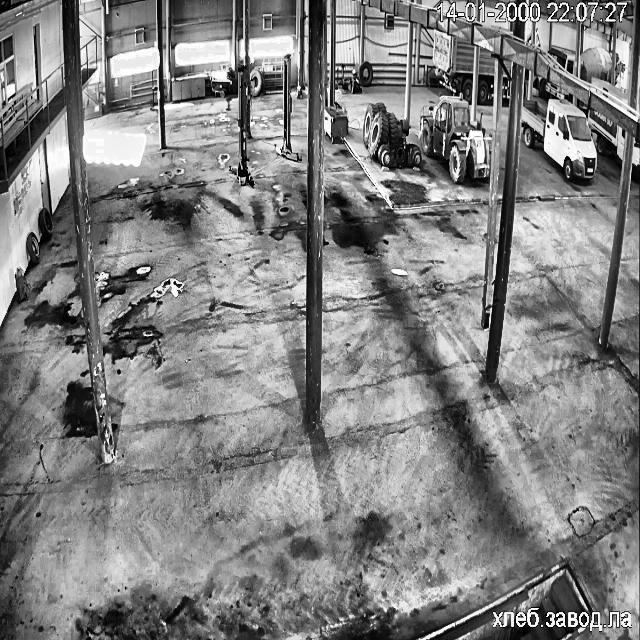car lift: (230, 67, 254, 186), (275, 54, 300, 161)
fire extinguisher: (16, 268, 26, 300)
tractor: (420, 96, 489, 182), (362, 102, 420, 166)
truck: (521, 100, 596, 180), (432, 28, 473, 100), (588, 108, 624, 160), (580, 46, 612, 83), (476, 46, 494, 103), (592, 80, 628, 103), (548, 45, 574, 73), (537, 77, 570, 99), (498, 60, 511, 99), (632, 140, 640, 179), (616, 58, 622, 76)
